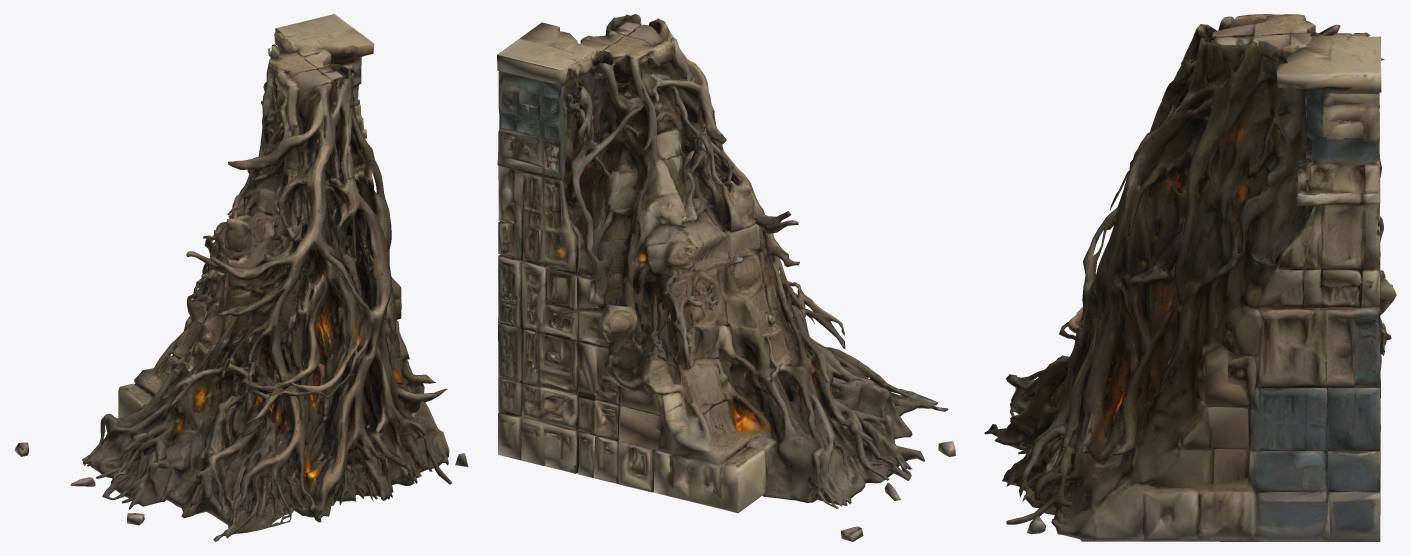
File: Highly_detailed_ancie.glb
3 views of the same model, side by side, from view 1: azimuth 30°, elevation 25°; view 2: azimuth 150°, elevation 25°; view 3: azimuth 270°, elevation 25° (orthographic). The views are drawn at different scales.
Visible parts, largest first — view 1: Highly_detailed_ancie; view 2: Highly_detailed_ancie; view 3: Highly_detailed_ancie.
Boxes of the visible parts, x1,y1,x2,y2 form: Highly_detailed_ancie: (14, 14, 468, 541); Highly_detailed_ancie: (497, 14, 955, 541); Highly_detailed_ancie: (984, 14, 1396, 541).
Bounding box in the file's own units: 1.87 × 2 × 1.59.
Materials: 1 (1 with a texture image).
